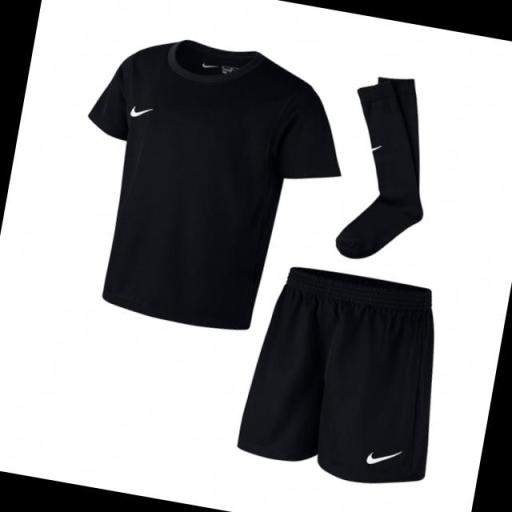Nike: (358, 440, 405, 470)
